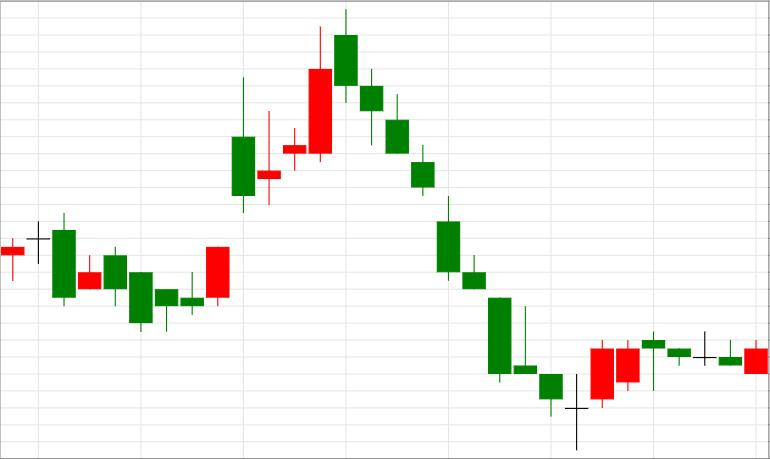morning_star_rise: (334, 9, 613, 450)
